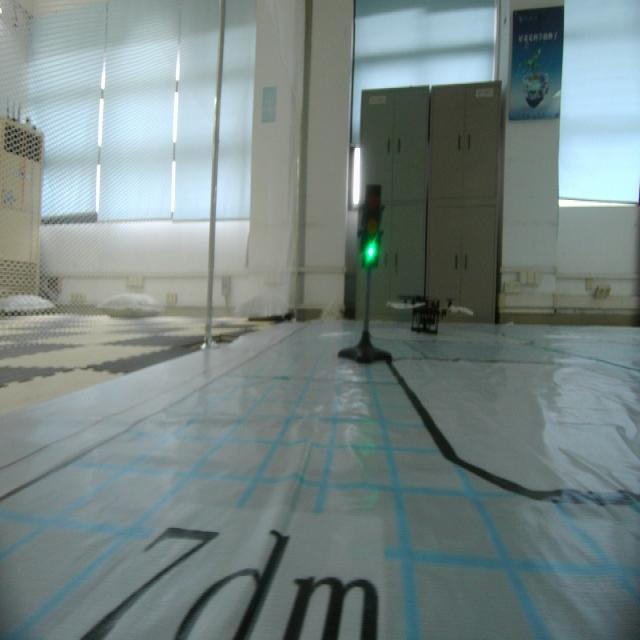green: (359, 188, 385, 268)
